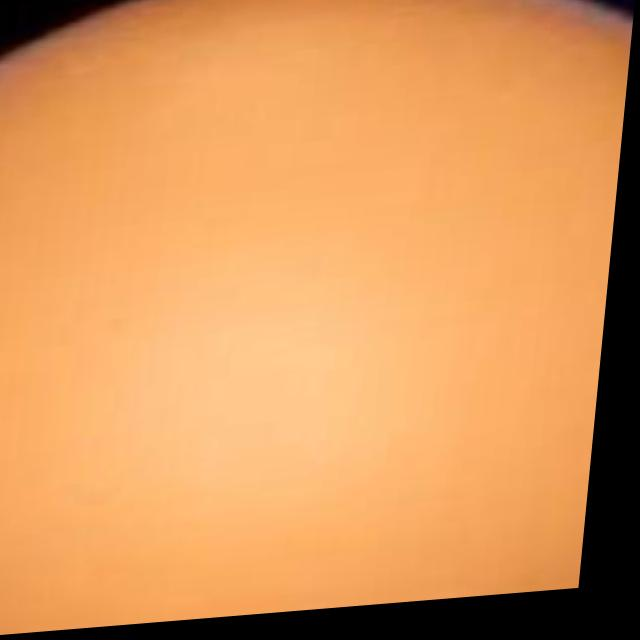fresh: (0, 0, 638, 640)
